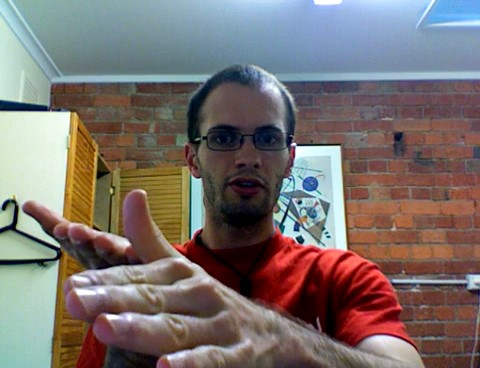H: (19, 175, 305, 368)
